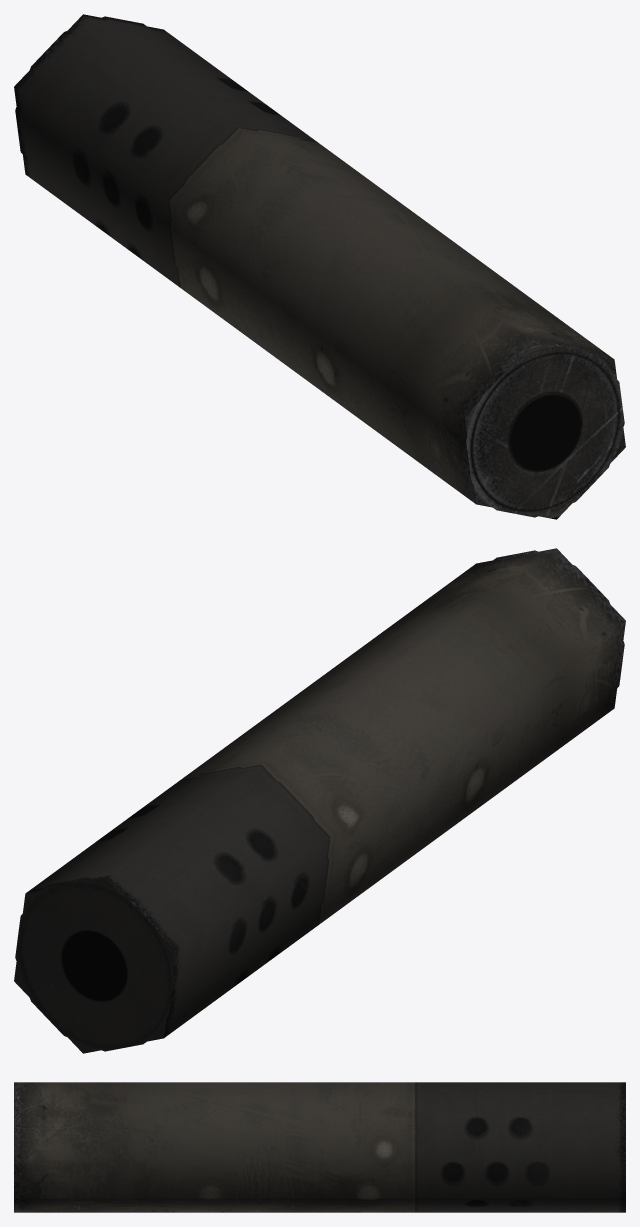
File: Rifle_Silencer_LOD.FBX
3 renders of one model, top to bottom at view 1: azimuth 30°, elevation 25°; view 2: azimuth 150°, elevation 25°; view 3: azimuth 270°, elevation 25°, orthographic. The views are drawn at different scales.
Parts seen in each view (by area): view 1: m4a1_Silencer_LOD1, m4a1_Silencer_LOD2; view 2: m4a1_Silencer_LOD1, m4a1_Silencer_LOD2; view 3: m4a1_Silencer_LOD1, m4a1_Silencer_LOD2.
Part boxes in pixels (x1=…): m4a1_Silencer_LOD1: x1=15, y1=16, x2=624, y2=517; m4a1_Silencer_LOD2: x1=14, y1=14, x2=625, y2=519; m4a1_Silencer_LOD1: x1=15, y1=550, x2=624, y2=1051; m4a1_Silencer_LOD2: x1=14, y1=548, x2=625, y2=1053; m4a1_Silencer_LOD1: x1=14, y1=1093, x2=625, y2=1210; m4a1_Silencer_LOD2: x1=14, y1=1082, x2=625, y2=1212.
Size of the model in its own units: 32.18 by 34.53 by 156.
Materials: 1 (1 with a texture image).
